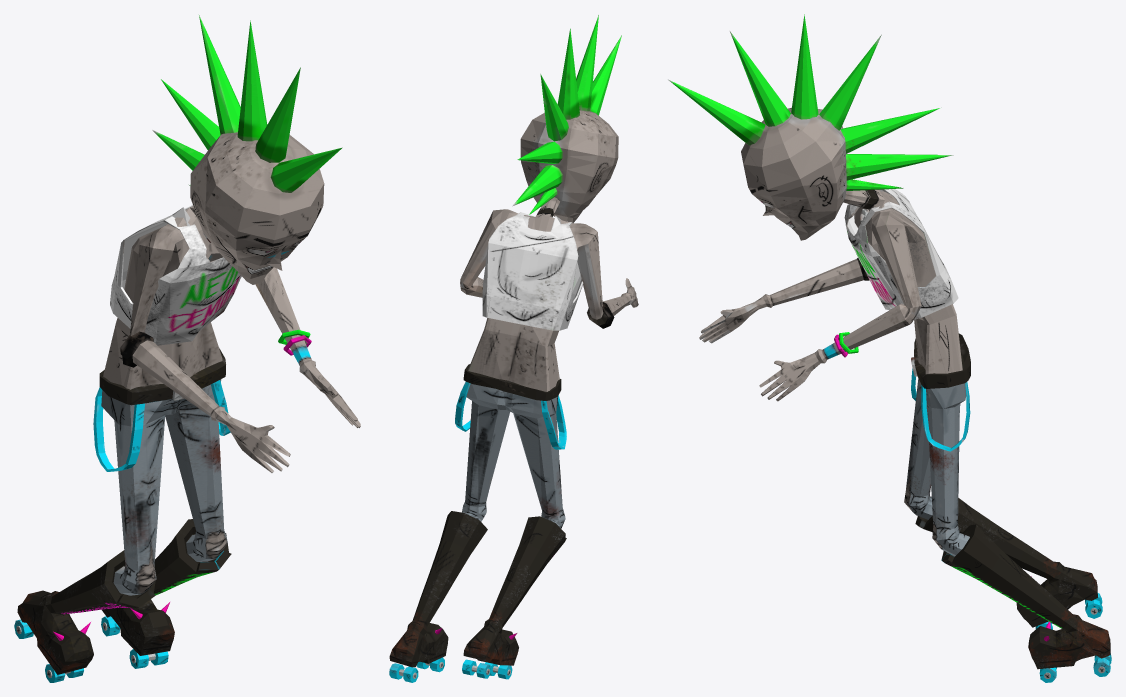
The model's file is punkAnimation_000017.obj.
3 views of the same model, side by side, from view 1: azimuth 30°, elevation 25°; view 2: azimuth 150°, elevation 25°; view 3: azimuth 270°, elevation 25° (orthographic). The views are drawn at different scales.
Parts seen in each view (by area): view 1: Cube.004_Cube.003; view 2: Cube.004_Cube.003; view 3: Cube.004_Cube.003.
Part boxes in pixels (box(x1,y1,x2,y2)): Cube.004_Cube.003: box(14, 15, 360, 682); Cube.004_Cube.003: box(389, 15, 638, 682); Cube.004_Cube.003: box(668, 14, 1111, 682).
Bounding box in the file's own units: 1.65 × 6.61 × 4.13.
